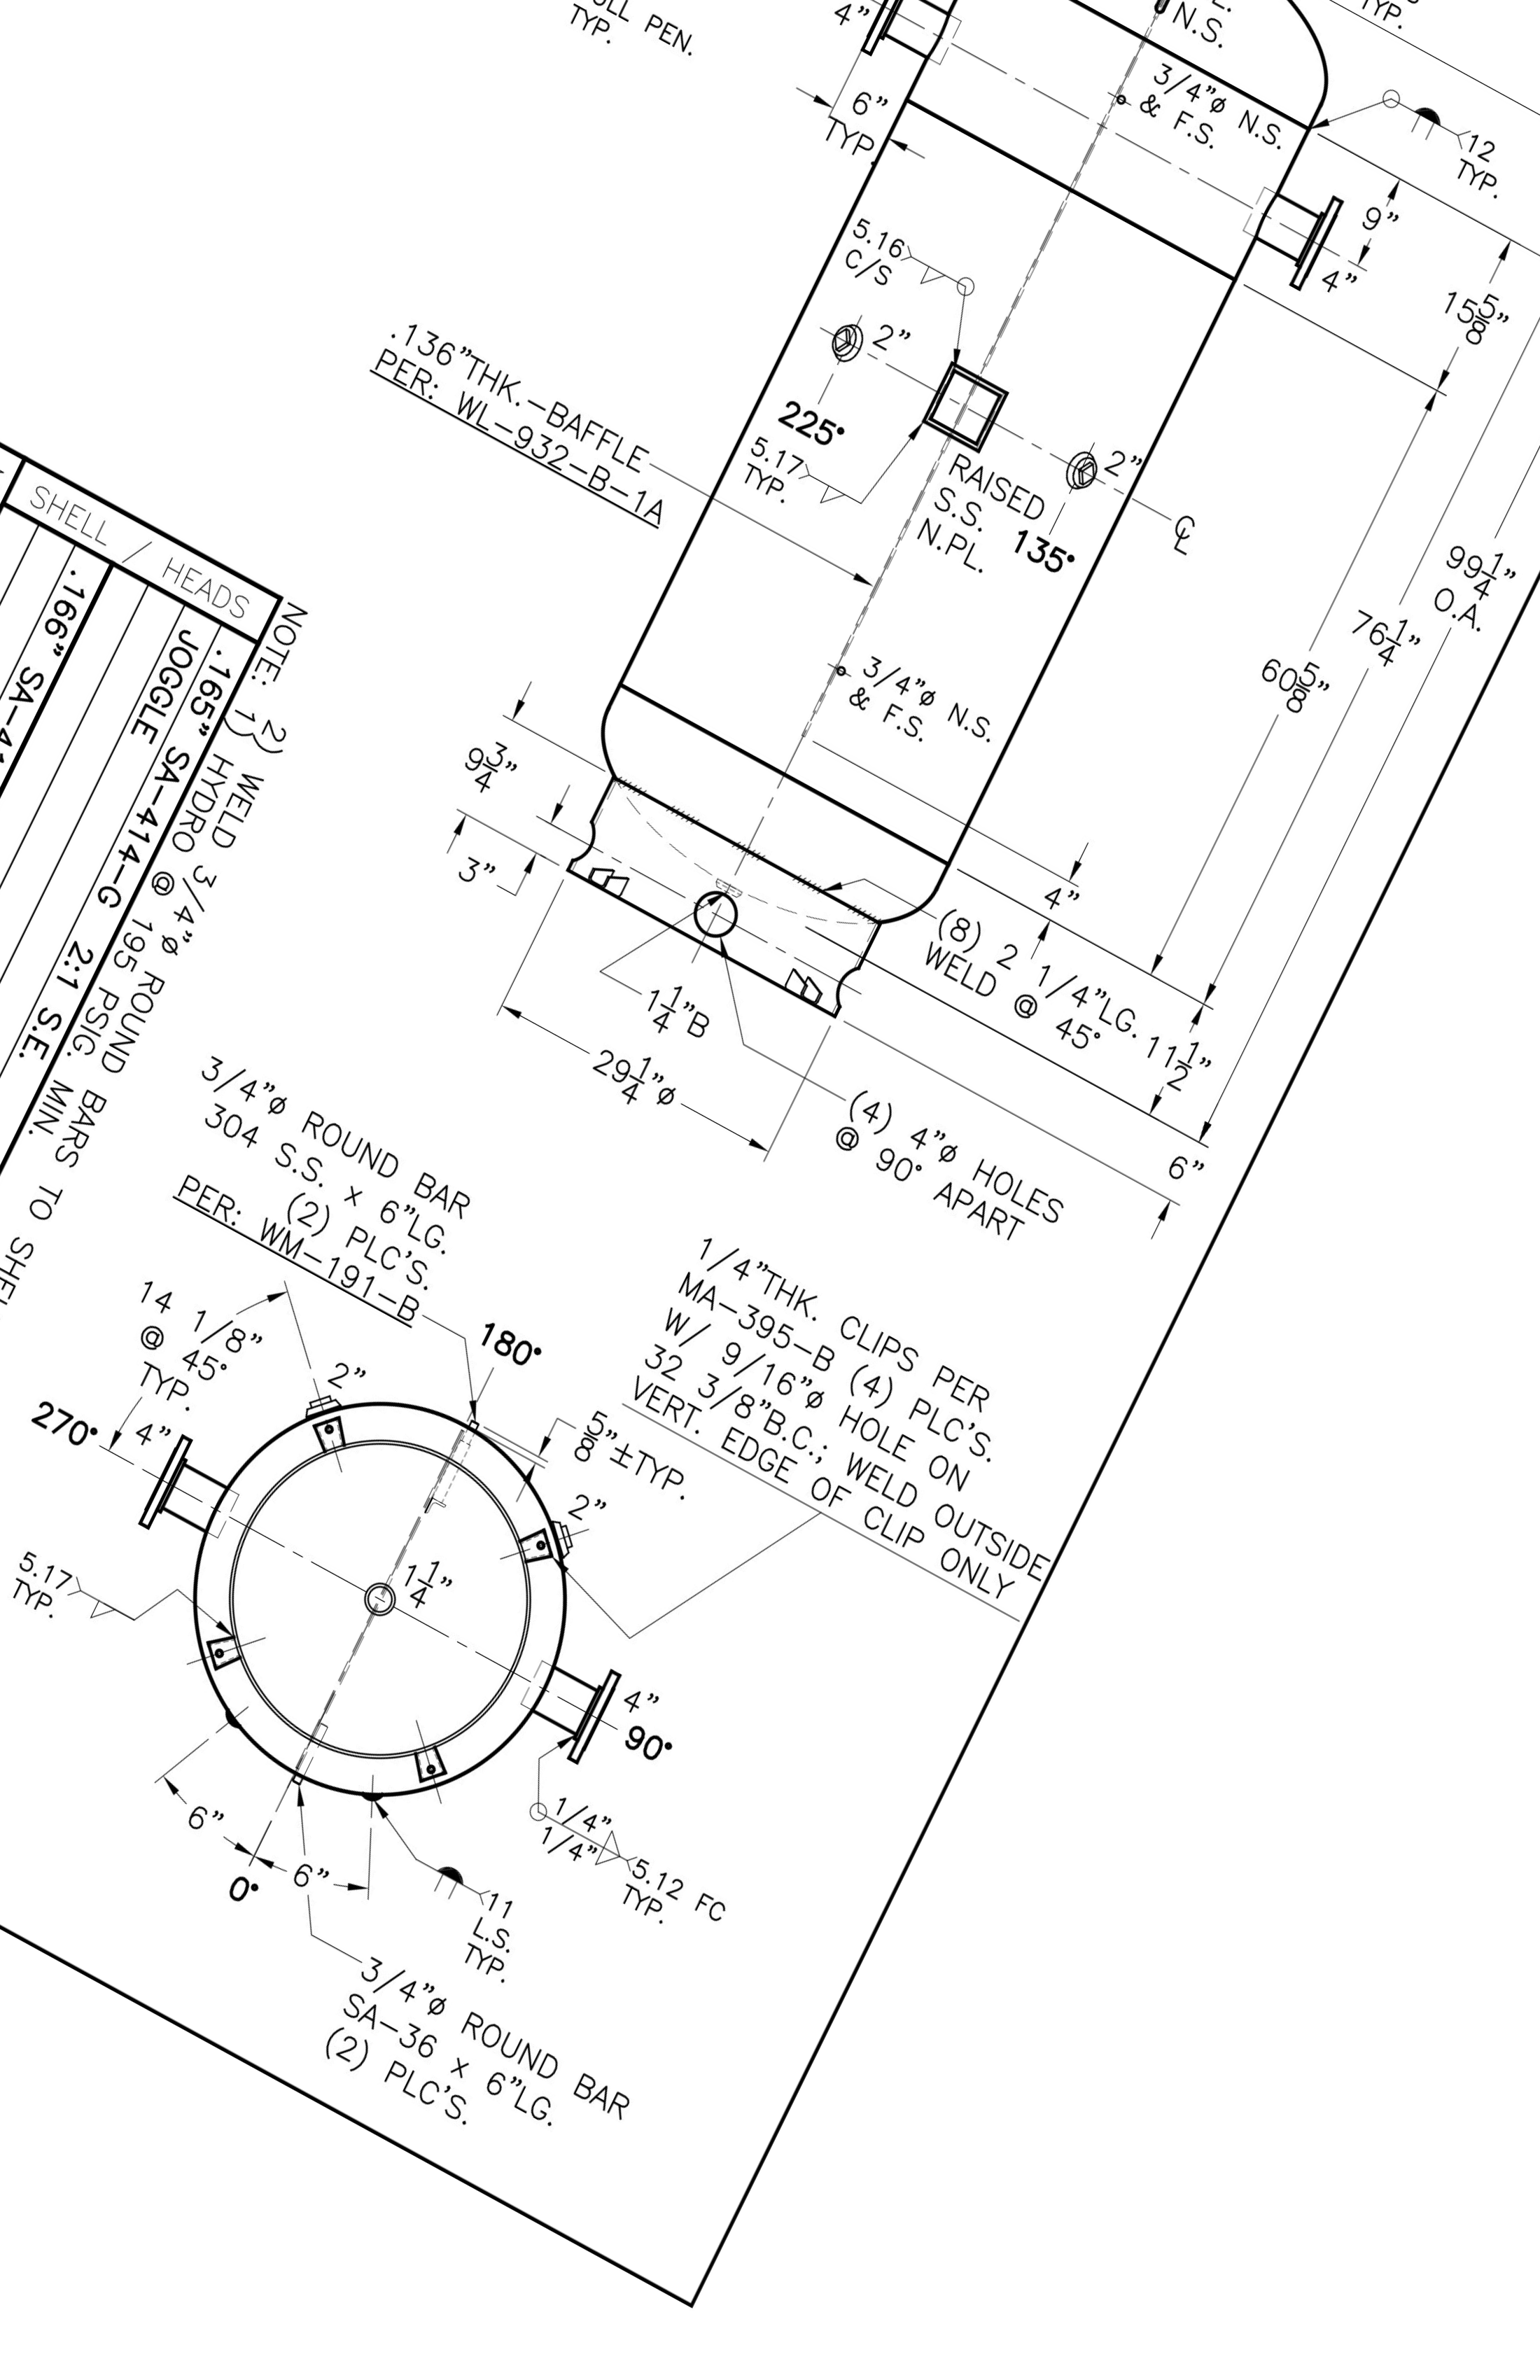Nozzle: (94, 1395, 245, 1563), (1247, 153, 1367, 321), (505, 1634, 638, 1783), (843, 0, 975, 101)
